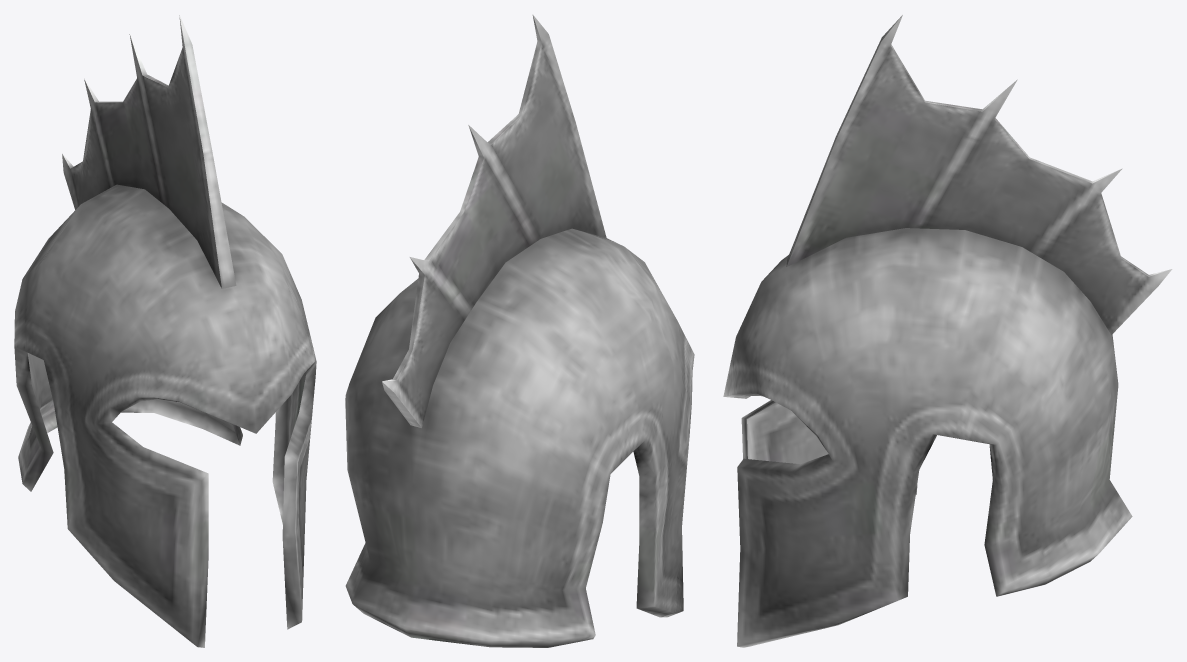
The model's file is helmet-heavyinfantry.glb.
The picture shows the model from 3 angles, left to right: view 1: azimuth 30°, elevation 25°; view 2: azimuth 150°, elevation 25°; view 3: azimuth 270°, elevation 25°; orthographic projection. The views are drawn at different scales.
Size of the model in its own units: 0.2621 by 0.6005 by 0.3969.
1 material, 1 textured.
